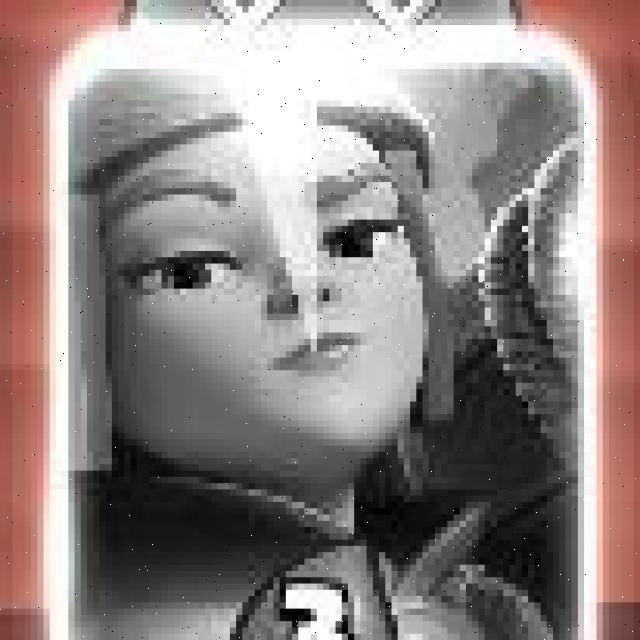Evolved_Firecracker: (45, 29, 605, 640)
